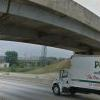Bridge: (10, 1, 97, 48)
